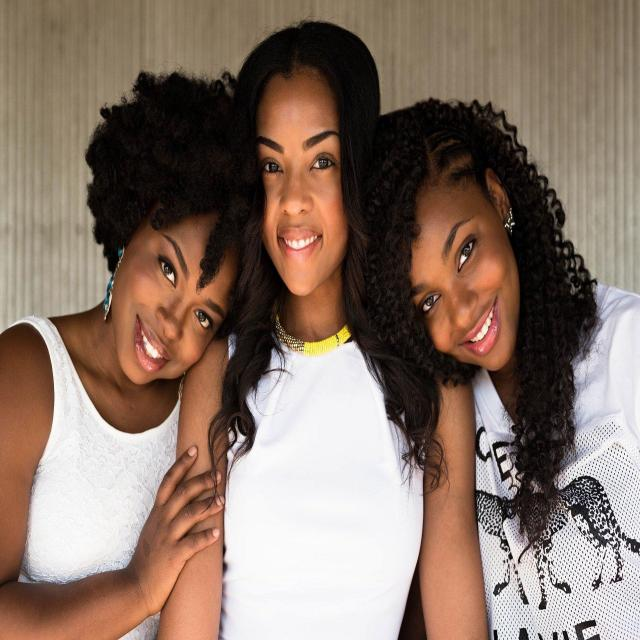person: (352, 86, 630, 626), (3, 36, 241, 640), (199, 6, 422, 639)
